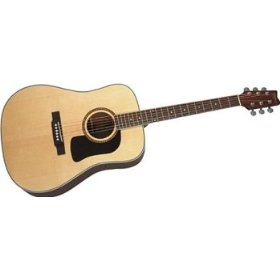guitar: (1, 82, 279, 198)
